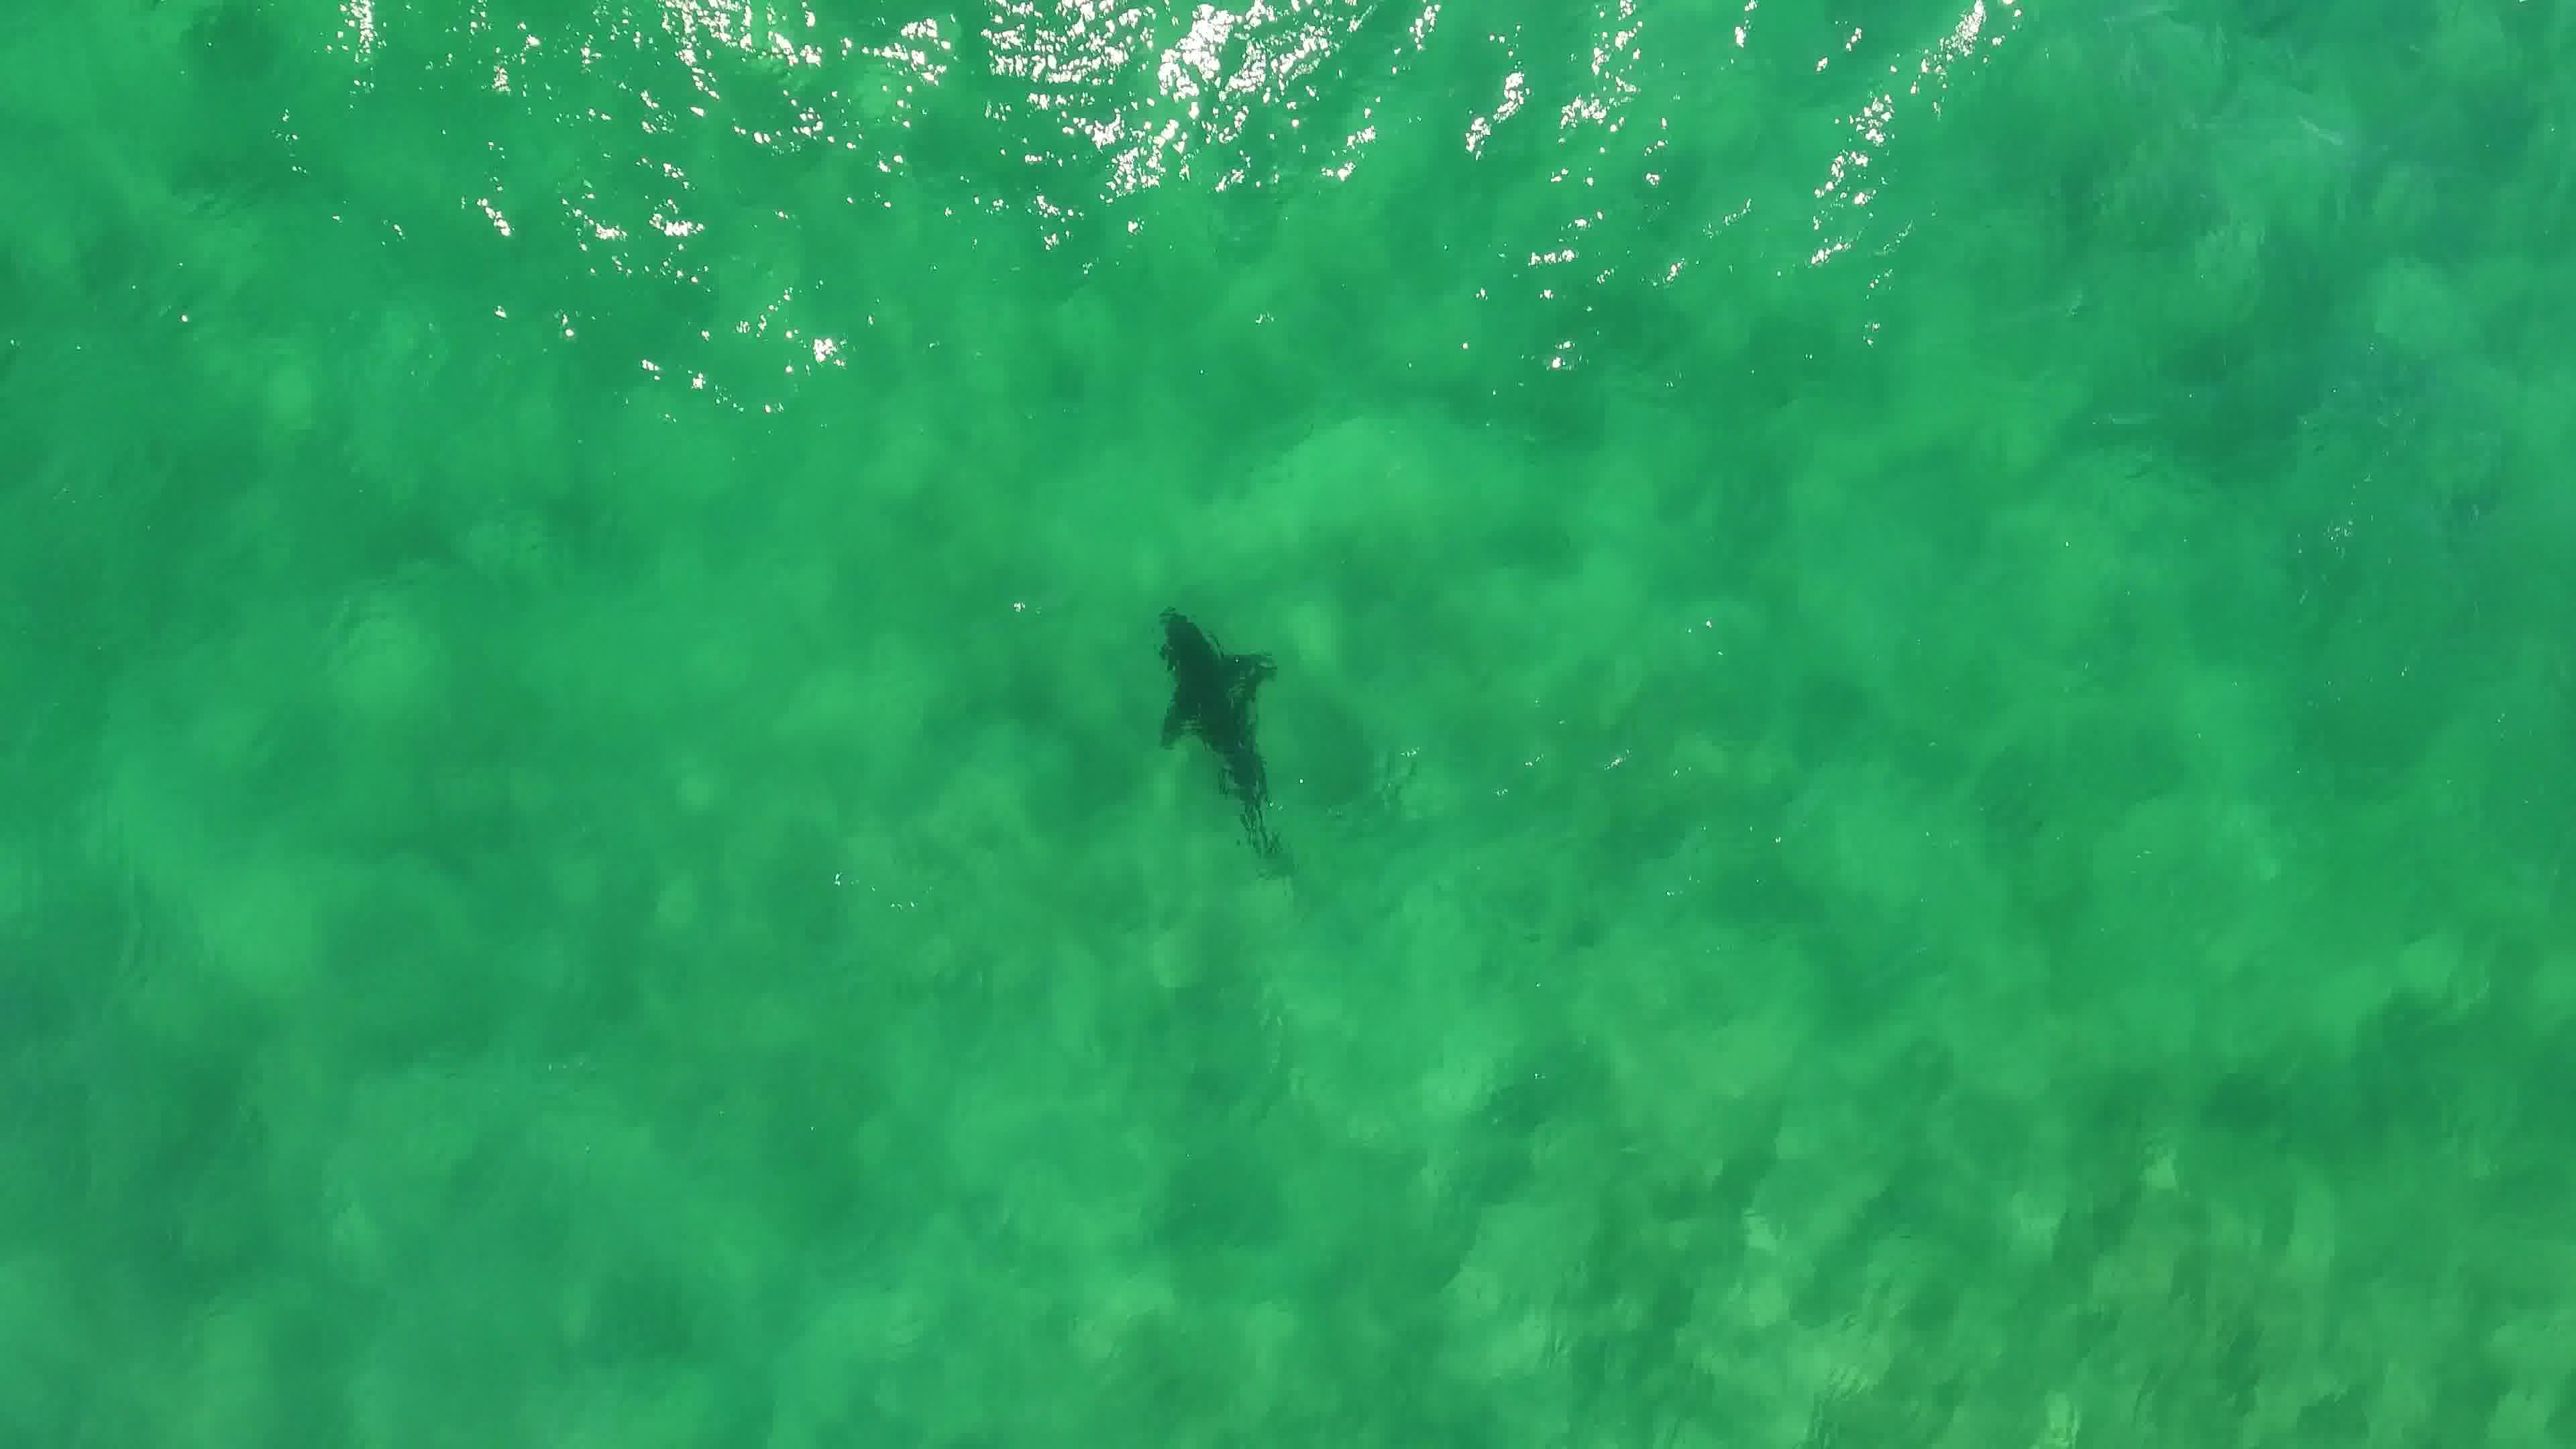shark: (1143, 602, 1295, 869)
